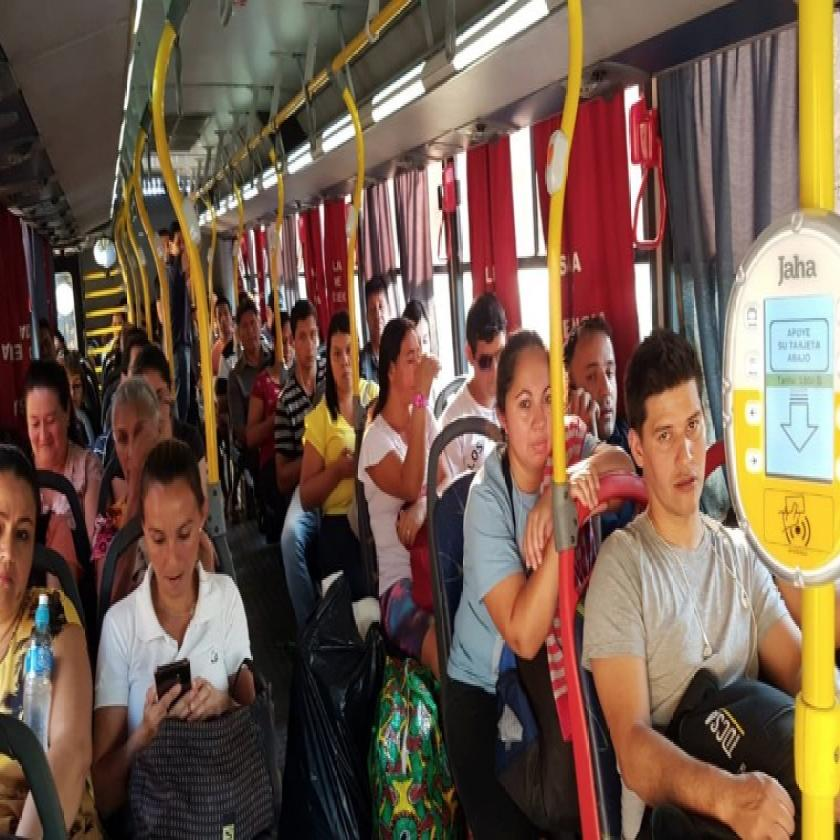Sin_casco: (624, 322, 709, 529), (134, 441, 207, 605), (499, 324, 561, 474), (0, 448, 44, 632), (561, 318, 616, 452), (24, 364, 74, 482), (377, 320, 424, 431), (463, 285, 509, 396), (104, 380, 154, 470), (325, 316, 360, 402), (287, 300, 319, 383), (402, 293, 435, 365), (368, 272, 392, 352), (236, 295, 263, 361), (214, 302, 233, 346)
